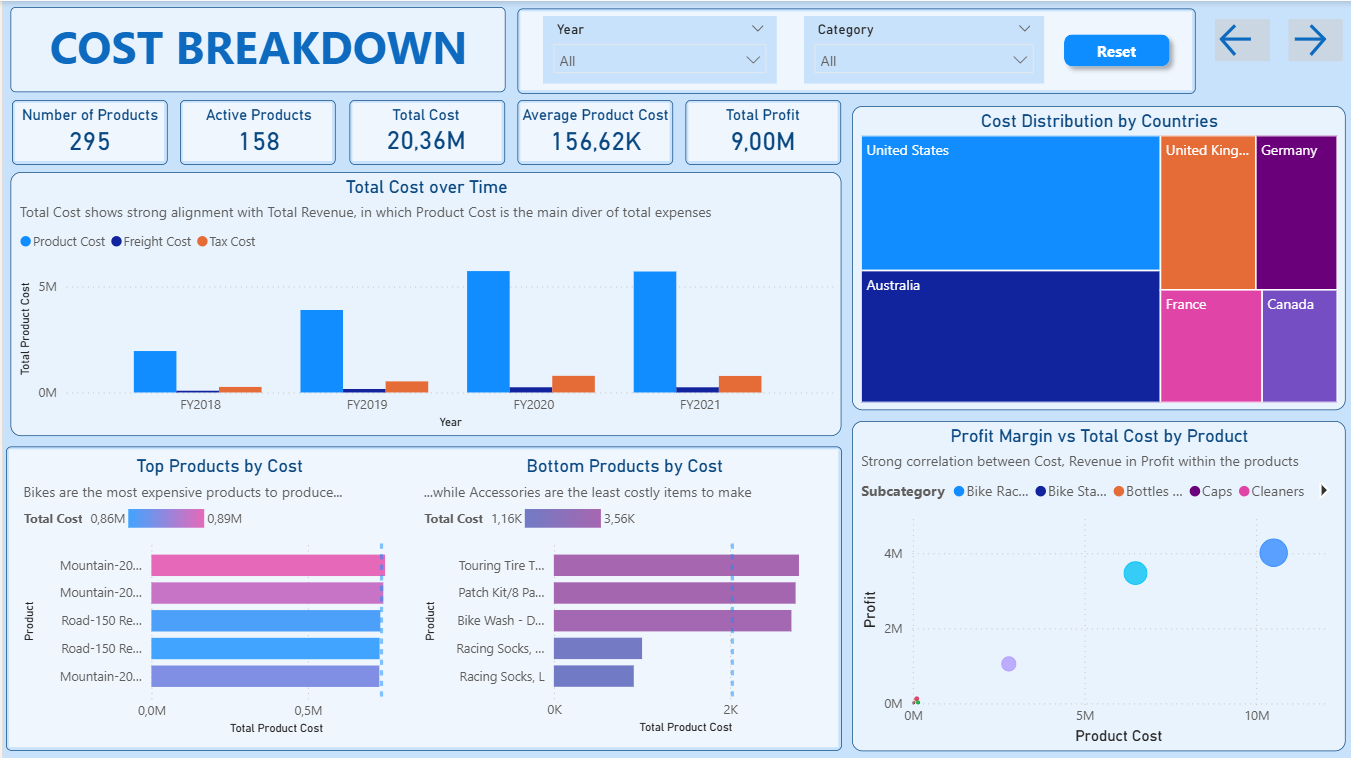

What the dashboard file says about the page in this screenshot:
{"tool":"powerbi","page":{"name":"Cost Breakdown","canvas":[1280,720],"ordinal":2},"visuals":[{"type":"textbox","box":[7.1,5.7,468.6,80.9],"z":0},{"type":"actionButton","box":[1217.5,17.1,51.3,40],"z":1000},{"type":"actionButton","box":[1147.8,17.1,52.3,40],"z":2000},{"type":"shape","box":[487.1,7.1,641.9,80.9],"z":3000},{"type":"slicer","fields":{"Values":["Product.Category"]},"box":[758.3,14.2,227.2,63.9],"z":4000},{"type":"slicer","fields":{"Values":["Date.Calendar.Year"]},"box":[511.2,14.2,221.5,63.9],"z":5000},{"type":"shape","box":[995.5,22.7,117.9,48.3],"z":6000},{"type":"shape","box":[167.2,93.7,147.5,61.2],"z":9000},{"type":"shape","box":[8.4,93.5,147.5,61.2],"z":10000},{"type":"shape","box":[487.7,93.7,147.5,61.2],"z":11000},{"type":"shape","box":[327.5,93.7,147.5,61.2],"z":12000},{"type":"shape","box":[645.7,93.7,147.5,61.2],"z":13000},{"type":"card","title":"Number of Products","fields":{"Values":["Count(Product.Product)"]},"box":[4.3,99.4,156.2,69.6],"z":14000},{"type":"card","title":"Average Product Cost","fields":{"Values":["Fact.Cost per Product"]},"box":[484.6,99.6,153.4,69.6],"z":15000},{"type":"card","title":"Total Profit","fields":{"Values":["Fact.Profit"]},"box":[654.7,99.4,129.2,69.6],"z":16000},{"type":"card","title":"Active Products","fields":{"Values":["Fact.Number of Active Products"]},"box":[174.7,99.6,134.9,69.6],"z":17000},{"type":"card","title":"Total Cost","fields":{"Values":["Fact.Cost"]},"box":[331.2,99.6,139.2,68.2],"z":18000},{"type":"scatterChart","title":"Profit Margin vs Total Cost by Product","fields":{"Y":["Fact.Profit"],"Series":["Product.Products.Subcategory"],"Size":["Fact.Revenue"],"X":["Fact.Total Cost"]},"box":[803.8,397.6,467.2,312.4],"z":19000},{"type":"clusteredColumnChart","title":"Total Cost over Time","fields":{"Category":["Date.Calendar.Year","Date.Calendar.Quarter","Date.Calendar.Month"],"Y":["Fact.Product Cost","Fact.Total Freight","Fact.Total Tax"]},"box":[7.1,161.9,786.8,249.9],"z":20000},{"type":"shape","box":[2.8,421.8,791,288.3],"z":21000},{"type":"clusteredBarChart","title":"Top Products by Cost","fields":{"Y":["Fact.Product Cost"],"Category":["Product.Products.Product"]},"box":[14.2,430.3,382,268.4],"z":22000},{"type":"clusteredBarChart","title":"Bottom Products by Cost","fields":{"Category":["Product.Products.Product"],"Y":["Fact.Product Cost"]},"box":[393.4,430.3,390.5,268.4],"z":23000},{"type":"treemap","title":"Cost Distribution by Countries","fields":{"Group":["Geography (Customer).Country"],"Values":["Fact.Total Cost"]},"box":[803.8,99.4,467.2,288.3],"z":24000}]}

Visuals, with their boxes in screenshot pixels (x1, y1, x2, y2), scaled from the page's 1280x720 canvas onto the 1351x758 screenshot:
textbox: (left=7, top=6, right=502, bottom=91)
actionButton: (left=1285, top=18, right=1339, bottom=60)
actionButton: (left=1211, top=18, right=1267, bottom=60)
shape: (left=514, top=7, right=1192, bottom=93)
slicer - Product.Category: (left=800, top=15, right=1040, bottom=82)
slicer - Date.Calendar.Year: (left=540, top=15, right=773, bottom=82)
shape: (left=1051, top=24, right=1175, bottom=75)
shape: (left=176, top=99, right=332, bottom=163)
shape: (left=9, top=98, right=165, bottom=163)
shape: (left=515, top=99, right=670, bottom=163)
shape: (left=346, top=99, right=501, bottom=163)
shape: (left=682, top=99, right=837, bottom=163)
"Number of Products" card: (left=5, top=105, right=169, bottom=178)
"Average Product Cost" card: (left=511, top=105, right=673, bottom=178)
"Total Profit" card: (left=691, top=105, right=827, bottom=178)
"Active Products" card: (left=184, top=105, right=327, bottom=178)
"Total Cost" card: (left=350, top=105, right=496, bottom=177)
"Profit Margin vs Total Cost by Product" scatterChart: (left=848, top=419, right=1342, bottom=747)
"Total Cost over Time" clusteredColumnChart: (left=7, top=170, right=838, bottom=434)
shape: (left=3, top=444, right=838, bottom=748)
"Top Products by Cost" clusteredBarChart: (left=15, top=453, right=418, bottom=736)
"Bottom Products by Cost" clusteredBarChart: (left=415, top=453, right=827, bottom=736)
"Cost Distribution by Countries" treemap: (left=848, top=105, right=1342, bottom=408)
